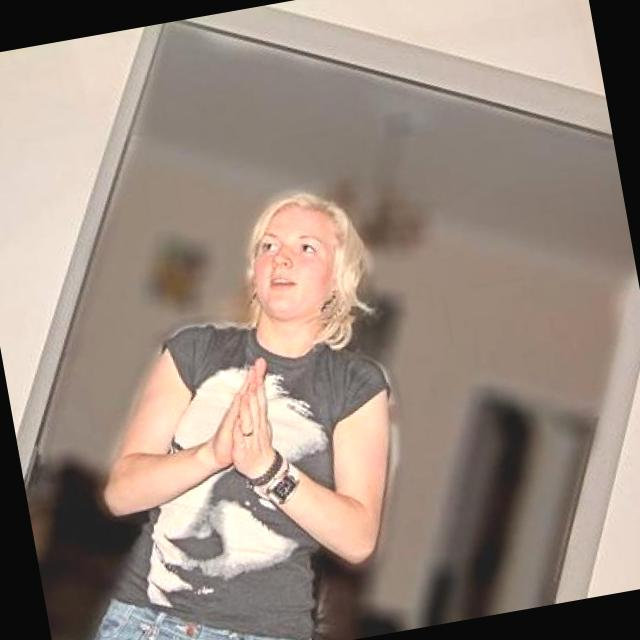no_vest: (66, 277, 427, 640)
